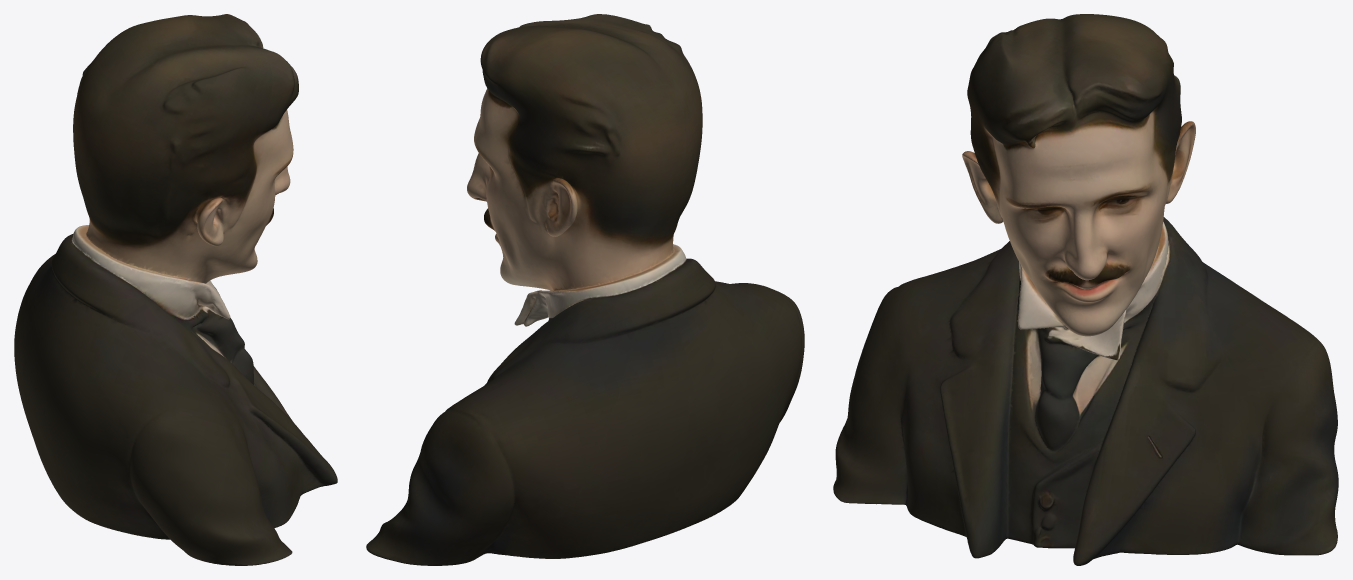
Rendered from nikola-tesla.glb.
3 views of the same model, side by side, from view 1: azimuth 30°, elevation 25°; view 2: azimuth 150°, elevation 25°; view 3: azimuth 270°, elevation 25° (orthographic). The views are drawn at different scales.
Visible parts, largest first — view 1: tripo_node_8c234d17-7532-46f7-90cf-d72137d16420; view 2: tripo_node_8c234d17-7532-46f7-90cf-d72137d16420; view 3: tripo_node_8c234d17-7532-46f7-90cf-d72137d16420.
Boxes of the visible parts, box(x1,y1,x2,y2) form: tripo_node_8c234d17-7532-46f7-90cf-d72137d16420: box(14, 14, 337, 565); tripo_node_8c234d17-7532-46f7-90cf-d72137d16420: box(366, 14, 804, 565); tripo_node_8c234d17-7532-46f7-90cf-d72137d16420: box(833, 14, 1338, 565).
Bounding box in the file's own units: 0.636 × 1 × 0.9641.
1 material, 1 textured.
